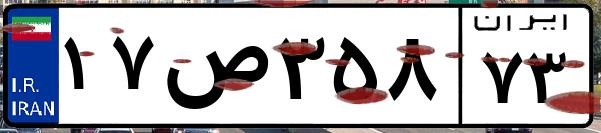1: (57, 26, 110, 100)
3: (270, 28, 330, 110), (525, 38, 570, 115)
5: (330, 28, 385, 110)
7: (475, 38, 525, 113), (110, 28, 158, 98)
8: (385, 28, 445, 110)
ص: (158, 20, 270, 120)
